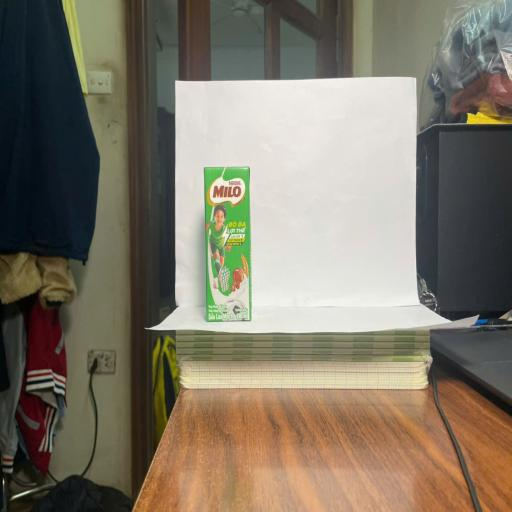milo: (204, 166, 251, 322)
